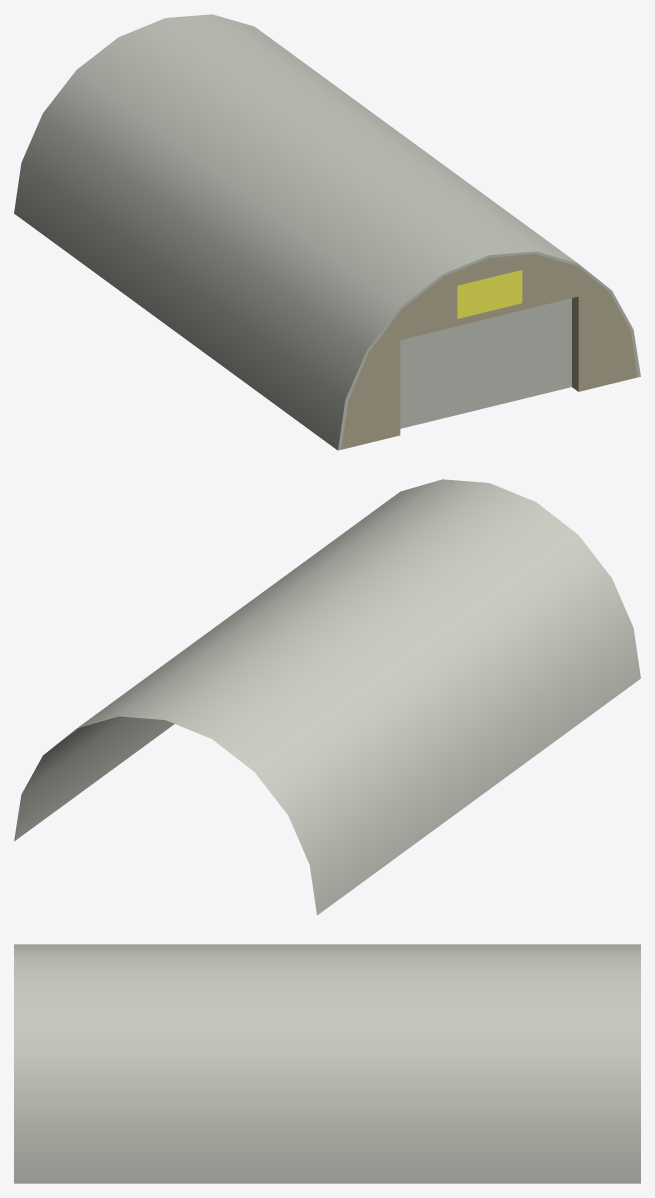
The model's file is HANGAR.fbx.
3 views of the same model, one above another, from view 1: azimuth 30°, elevation 25°; view 2: azimuth 150°, elevation 25°; view 3: azimuth 270°, elevation 25° (orthographic). The views are drawn at different scales.
Visible parts, largest first — view 1: HANGAR; view 2: HANGAR; view 3: HANGAR.
Part boxes in pixels (x1,y1,x2,y2): HANGAR: [14, 14, 640, 450]; HANGAR: [14, 479, 640, 915]; HANGAR: [14, 944, 640, 1183].
Bounding box in the file's own units: 1314 × 657 × 2432.
